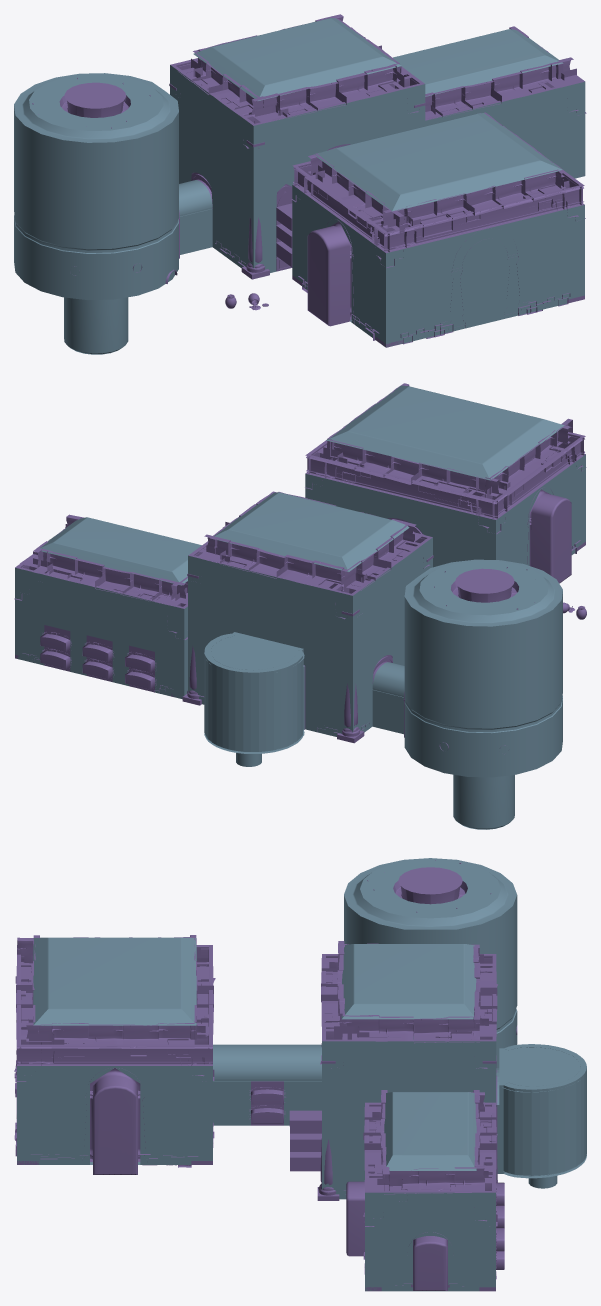
Rendered from cmc_dungeon_floor01_full.fbx.
3 renders of one model, top to bottom at view 1: azimuth 30°, elevation 25°; view 2: azimuth 150°, elevation 25°; view 3: azimuth 270°, elevation 25°, orthographic. The views are drawn at different scales.
Parts seen in each view (by area): view 1: ceiling (×5), B_wall (×2), walls, L_wall (×3), R_wall, brick_row_04 (×2), entryway_arch_01, brick_row_01, brick_row_03, hole, stone_opening, brick_row_02 (+12 smaller); view 2: ceiling (×6), walls (×2), L_wall (×3), F_wall (×2), brick_row_02 (×2), entryway_arch_01, brick_row_03, brick_row_01, hole, stone_opening, brick_row_04, grave_03 (+9 smaller); view 3: ceiling (×6), R_wall (×3), walls (×2), F_wall, entryway_arch_02, brick_row_02 (×2), brick_row_04 (×2), brick_row_03 (×3), brick_row_01 (×2), stone_opening, coffins, alcove_01 (+7 smaller).
Boxes of the visible parts, box(x1,y1,x2,y2) form: ceiling (×5): box(14, 18, 563, 216); B_wall (×2): box(253, 84, 584, 347); walls: box(14, 106, 178, 299); L_wall (×3): box(170, 65, 385, 346); R_wall: box(425, 81, 585, 178); brick_row_04 (×2): box(305, 57, 582, 232); entryway_arch_01: box(307, 219, 354, 326); brick_row_01: box(251, 64, 405, 123); brick_row_03: box(383, 169, 566, 229); hole: box(64, 297, 128, 354); stone_opening: box(59, 82, 130, 117); brick_row_02: box(178, 50, 263, 118); ceiling (×6): box(40, 385, 564, 697); walls (×2): box(204, 591, 562, 777); L_wall (×3): box(15, 454, 585, 732); F_wall (×2): box(188, 473, 495, 736); brick_row_02 (×2): box(32, 523, 422, 606); entryway_arch_01: box(527, 487, 571, 583); brick_row_03: box(197, 534, 345, 591); brick_row_01: box(329, 440, 499, 497); hole: box(453, 774, 514, 829); stone_opening: box(451, 568, 518, 602); brick_row_04: box(485, 418, 572, 495); grave_03: box(40, 625, 70, 671); ceiling (×6): box(33, 858, 586, 1170); R_wall (×3): box(17, 1041, 496, 1199); walls (×2): box(344, 895, 586, 1176); F_wall: box(365, 1192, 495, 1291); entryway_arch_02: box(82, 1068, 145, 1174); brick_row_02 (×2): box(26, 1021, 496, 1183); brick_row_04 (×2): box(342, 1013, 479, 1191); brick_row_03 (×3): box(16, 935, 497, 1194); brick_row_01 (×2): box(190, 935, 346, 1039); stone_opening: box(393, 867, 467, 904); coffins: box(289, 1110, 321, 1171); alcove_01: box(413, 1236, 447, 1290).
Size of the model in its own units: 300 by 133 by 263.
